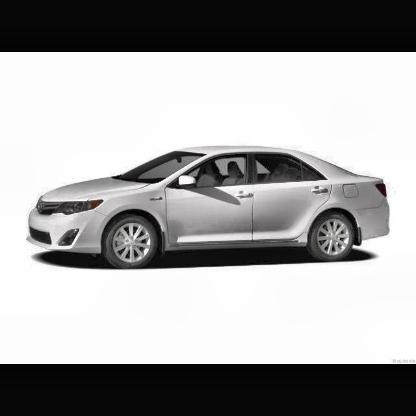Toyota Camry Sedan 2012: (27, 145, 392, 272)
